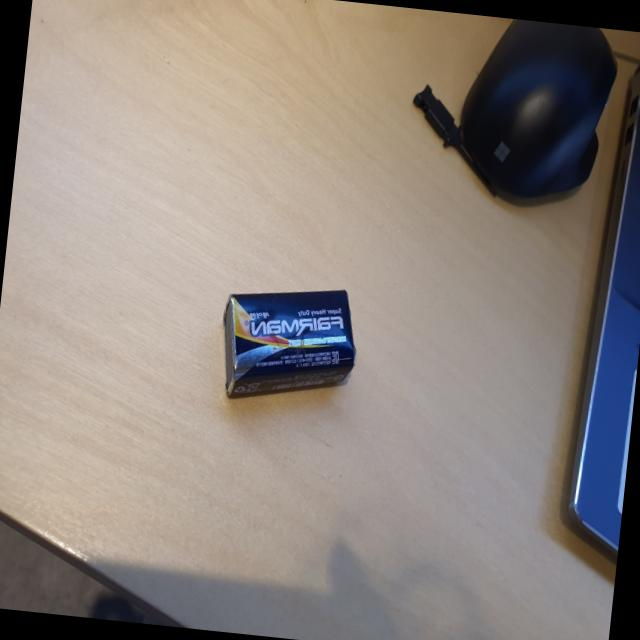battery-etc-etc: (206, 266, 370, 417)
